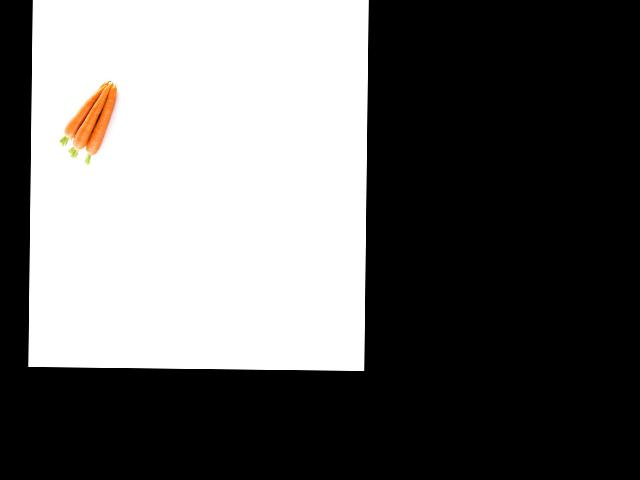carrot: (84, 86, 118, 161)
